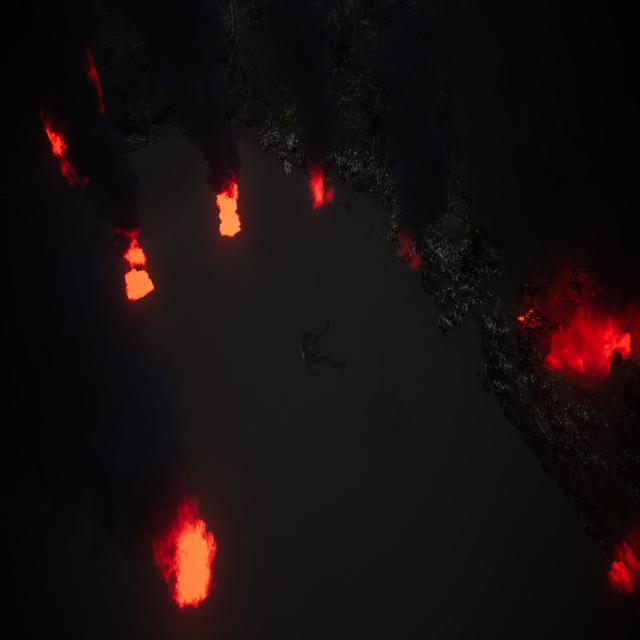Human: (294, 302, 351, 381)
